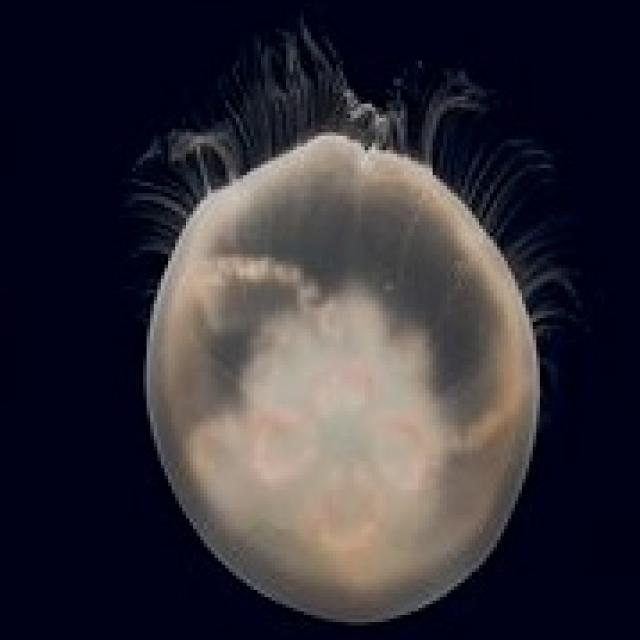Moon-jellyfish: (124, 14, 586, 626)
